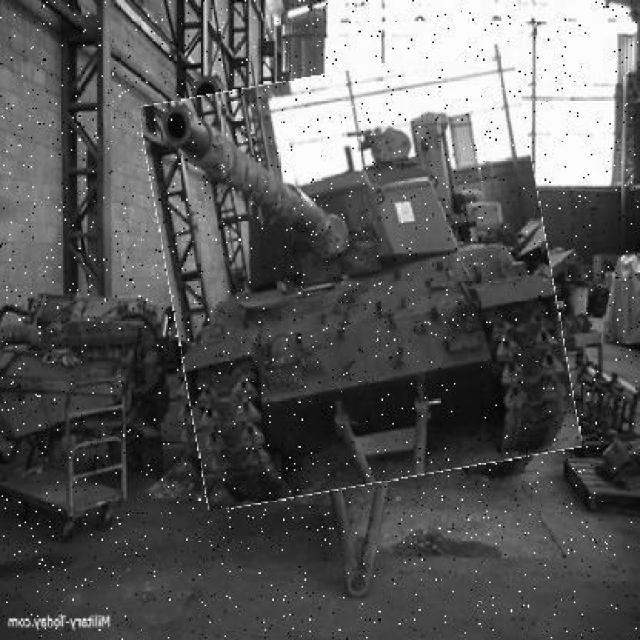Tank: (155, 58, 567, 498)
